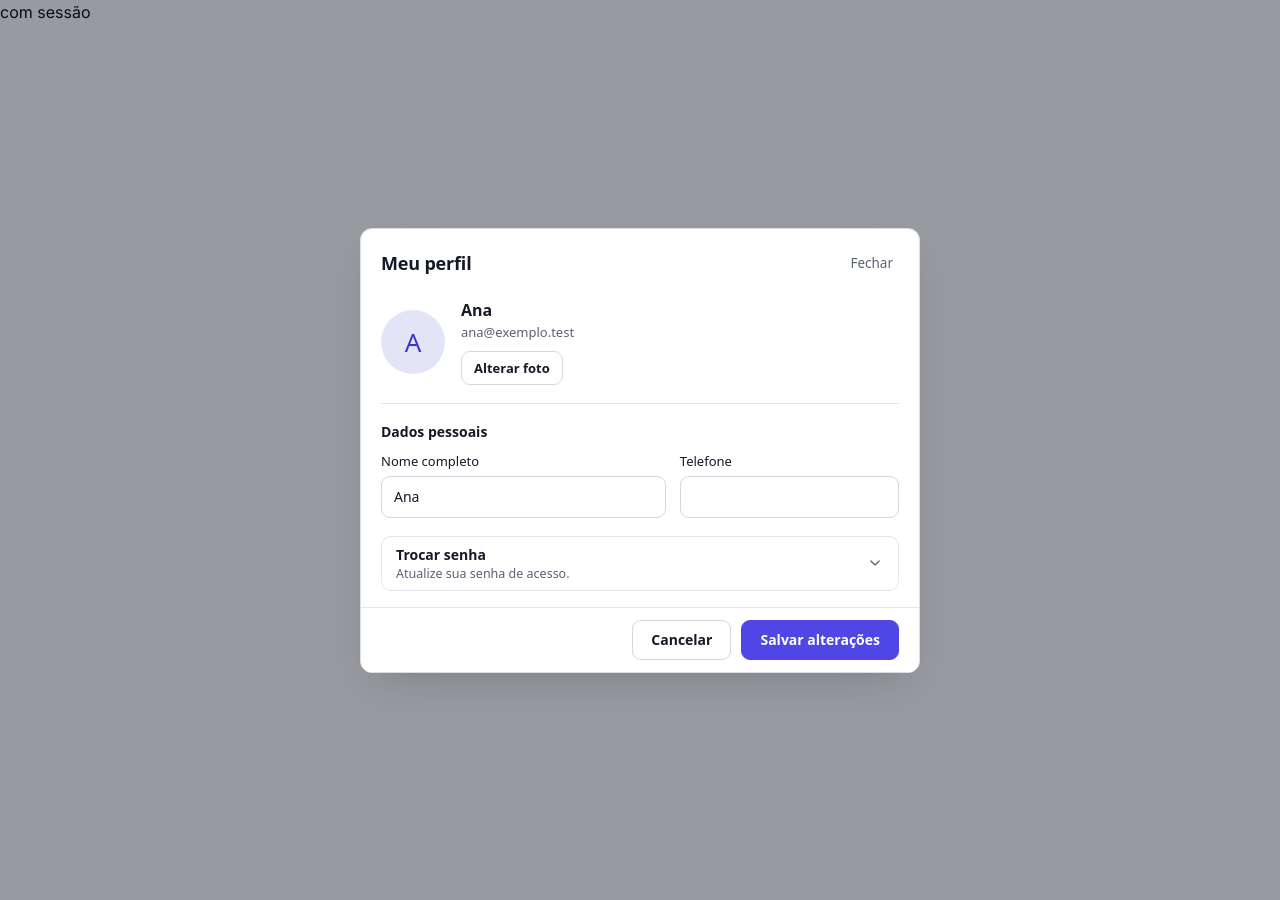
Test: trocar a senha com a senha atual errada (PRF-12) › com a sessão expirada no meio, desloga como qualquer outra tela
Expected: the field showing "Ana" is shown, [381,476,666,518]
Click the text "Atualize sua senha de acesso." at (483, 573), box [396,564,570,582]
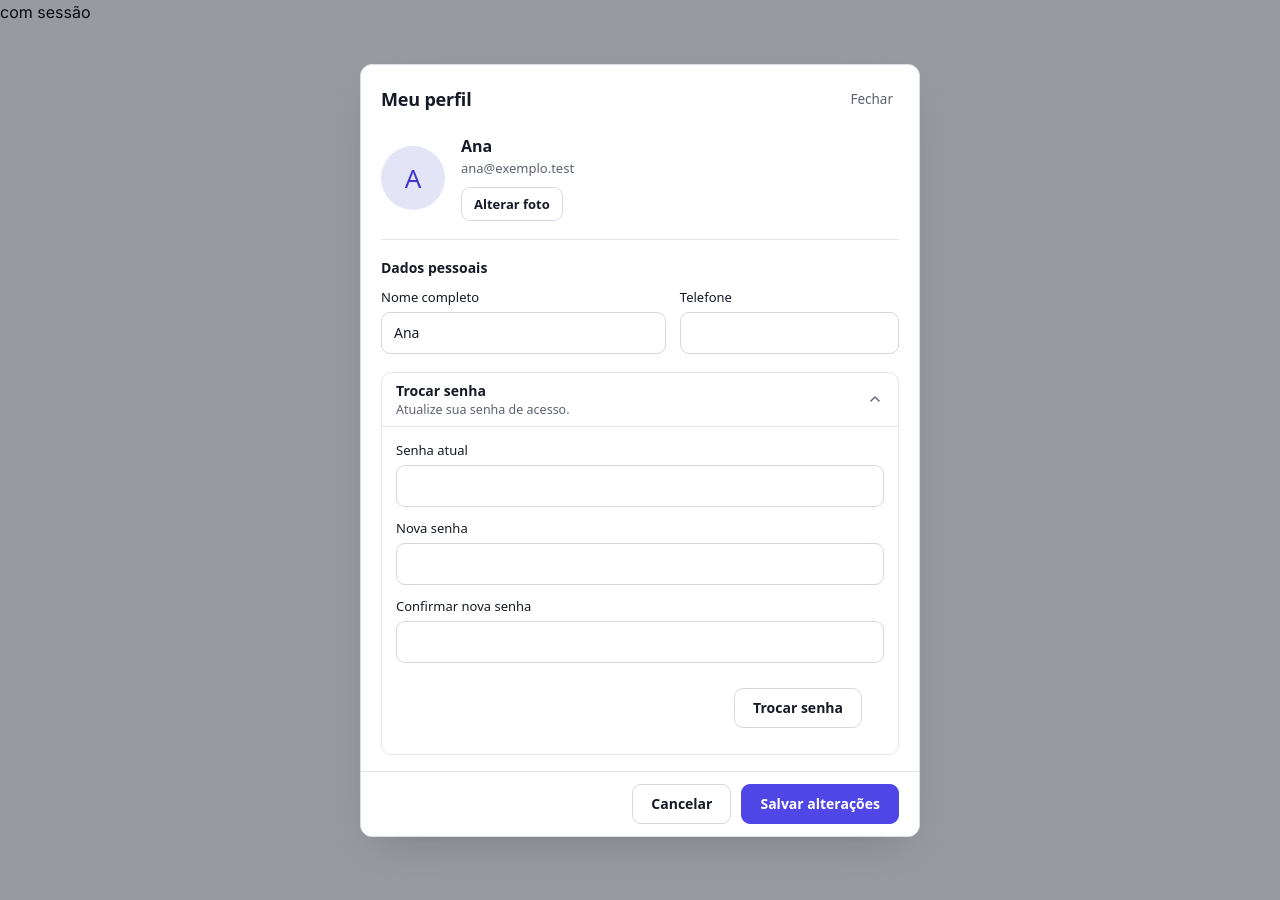
Type "errada123" into the password field labelled "Senha atual" at (640, 486), box [396,464,884,506]
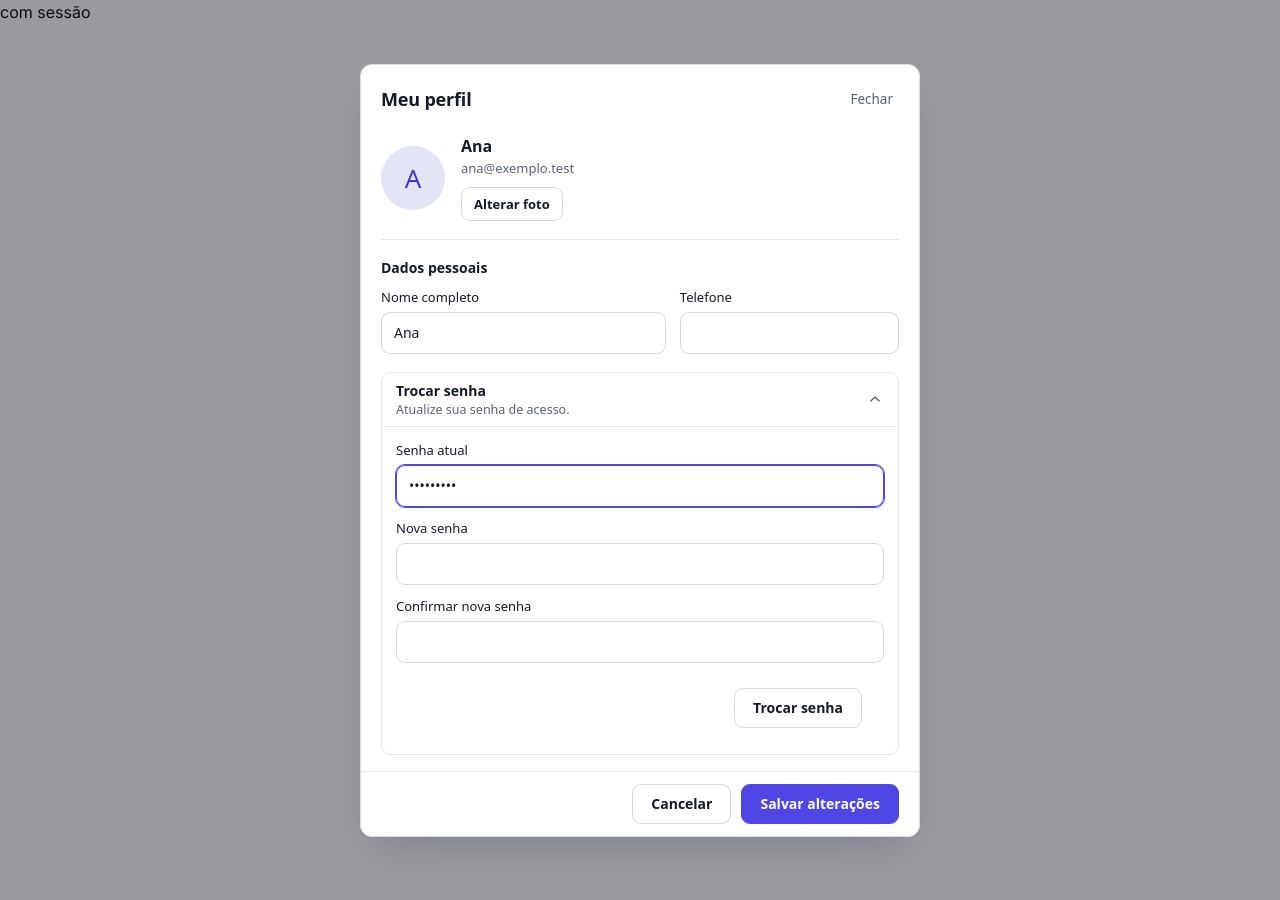
Type "nova12345" into the password field labelled "Nova senha" at (640, 564), box [396,542,884,584]
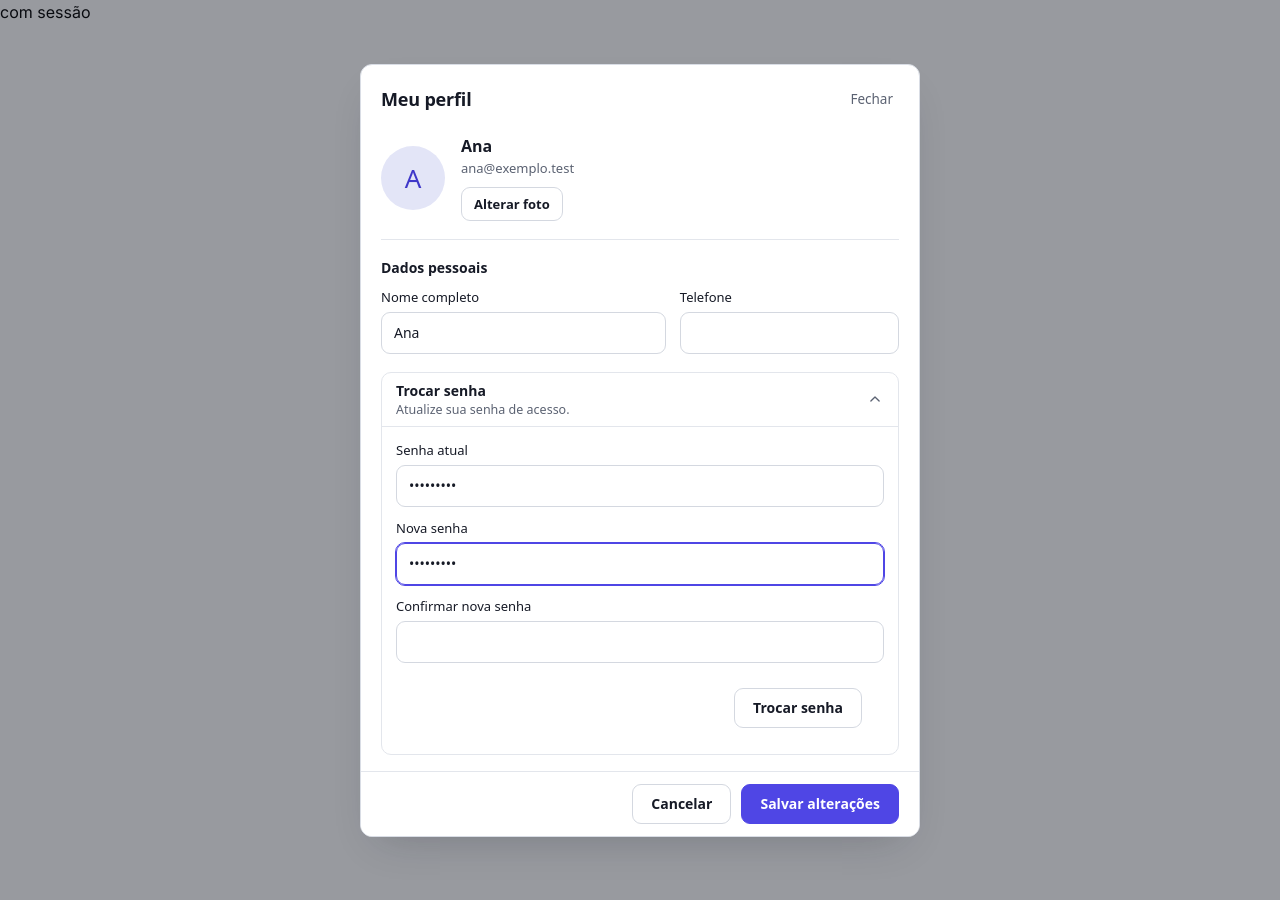
Type "nova12345" into the password field labelled "Confirmar nova senha" at (640, 642), box [396,620,884,662]
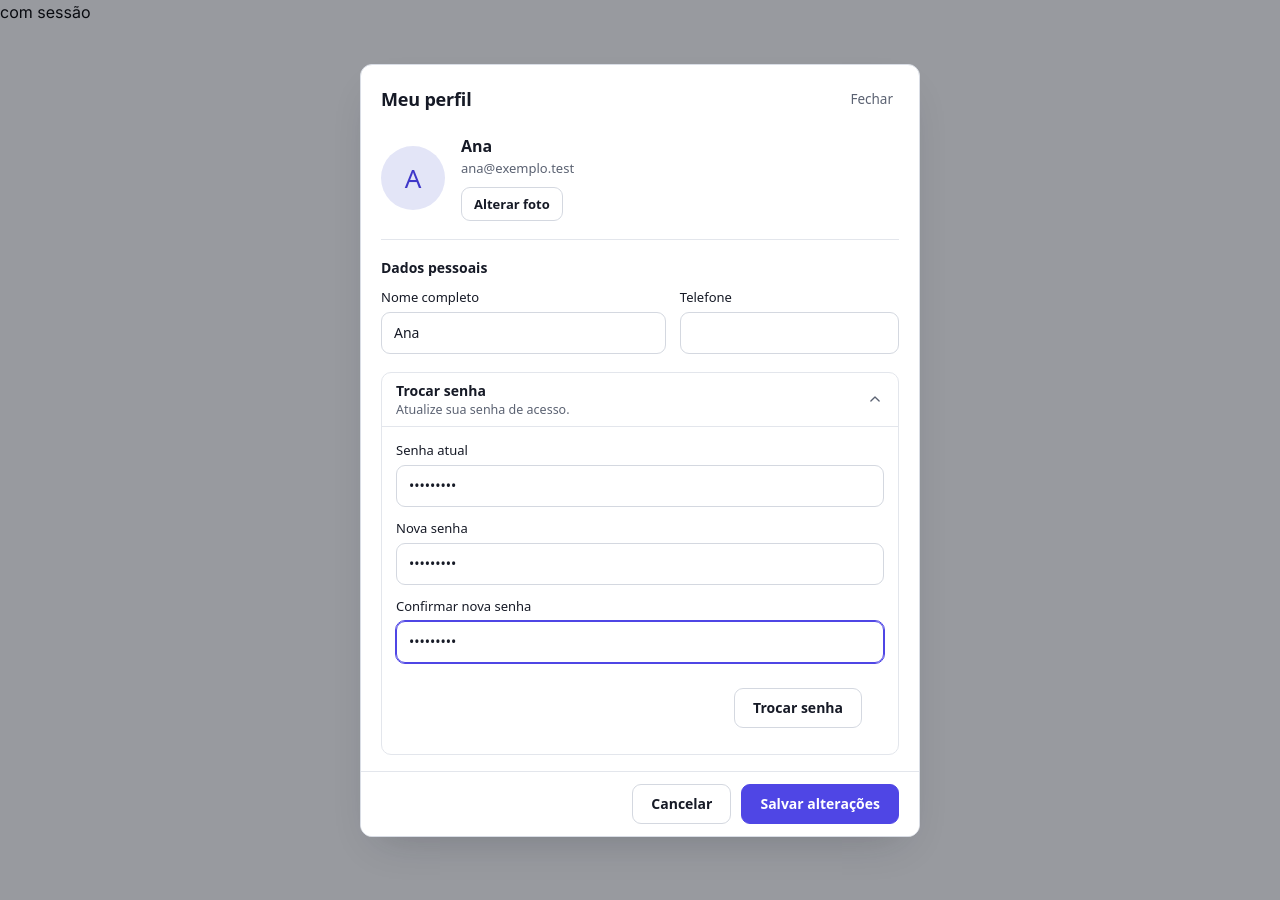
Click the button "Trocar senha" at (798, 708), box [734,688,862,728]
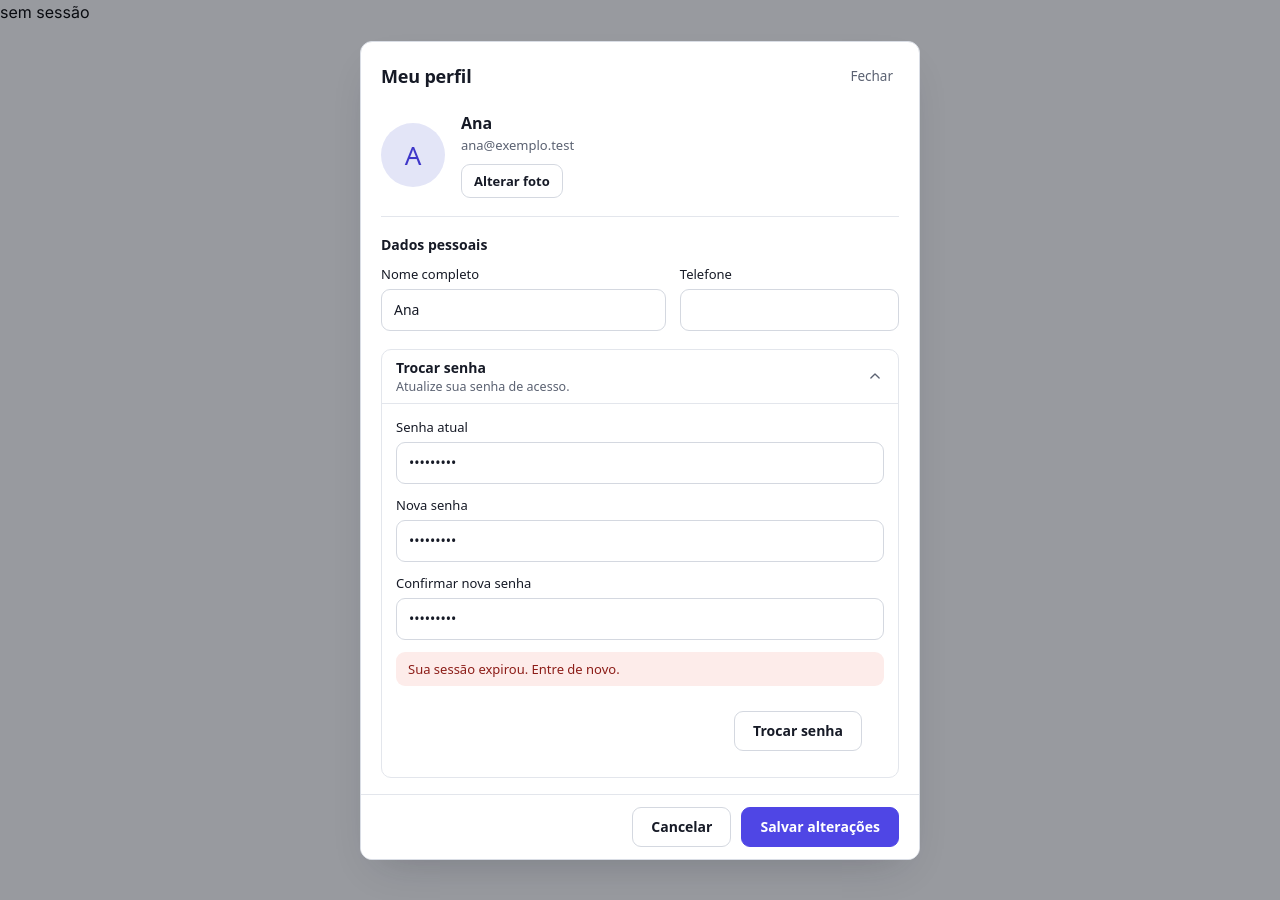
Expected: the text "Sua sessão expirou. Entre de novo." is shown, [396,652,884,686]
Expected: the text with test id "sessao" reads "sem sessão", [0,2,90,22]
